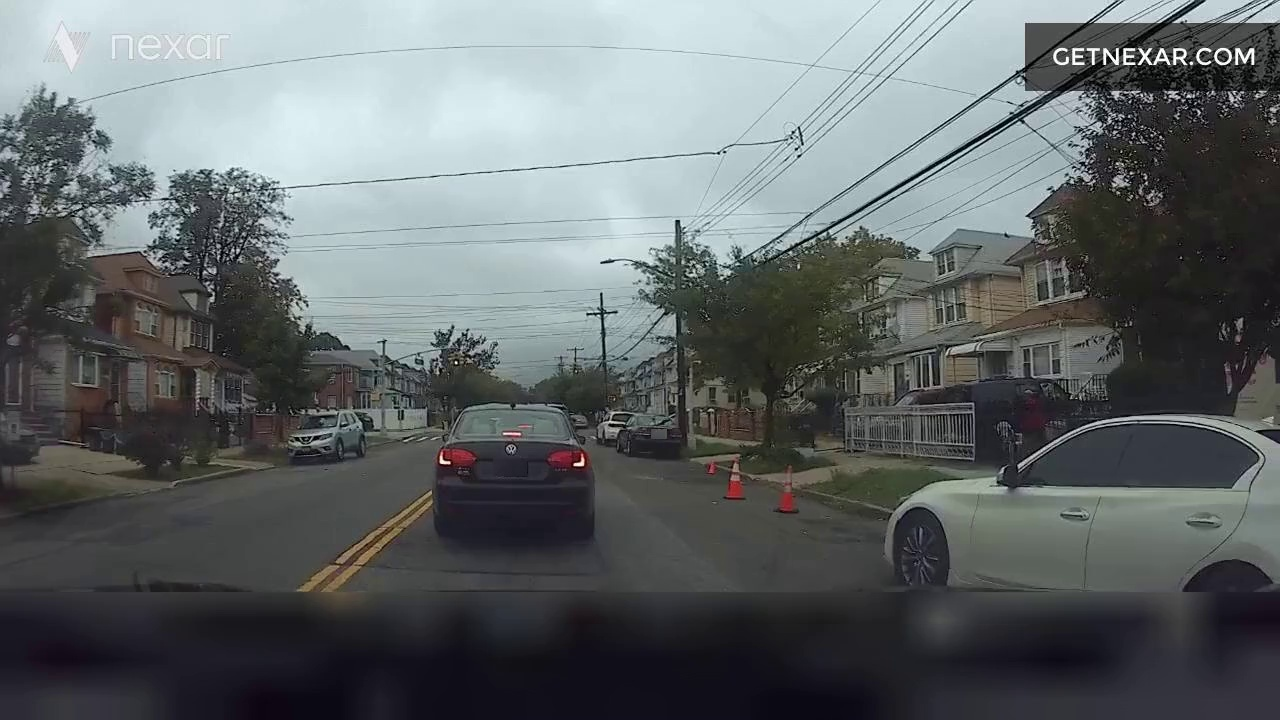car: (843, 386, 1280, 671), (431, 386, 595, 559), (256, 387, 371, 478), (597, 391, 688, 463)
traffic light: (429, 343, 480, 381)
